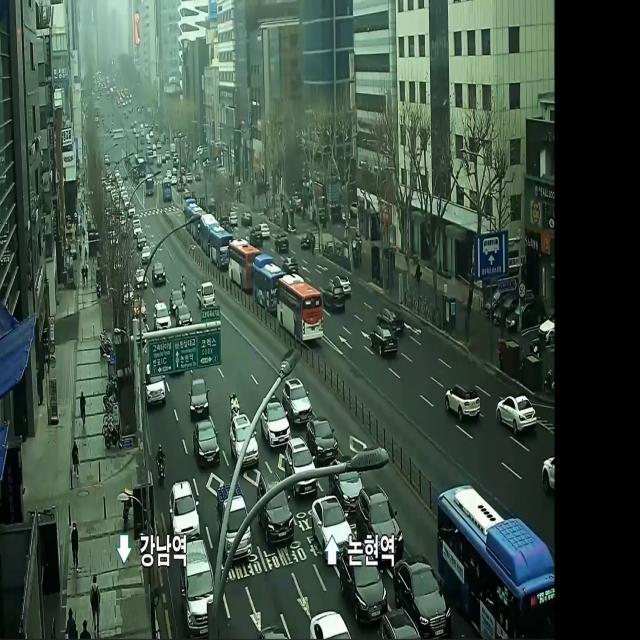bus: (155, 438, 166, 487), (229, 389, 240, 426), (179, 270, 188, 302)
car: (436, 479, 557, 640), (277, 273, 325, 345), (252, 250, 286, 314), (228, 236, 262, 290)
motorcycle: (496, 388, 538, 435), (444, 378, 483, 426), (168, 481, 202, 534), (306, 413, 340, 463), (260, 396, 292, 449), (192, 416, 220, 475), (283, 374, 313, 426), (370, 317, 398, 361), (188, 372, 210, 419), (322, 276, 347, 316), (152, 301, 170, 330), (152, 256, 167, 287)
truck: (198, 280, 217, 313)
